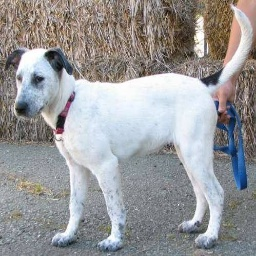dog: (5, 44, 229, 249)
